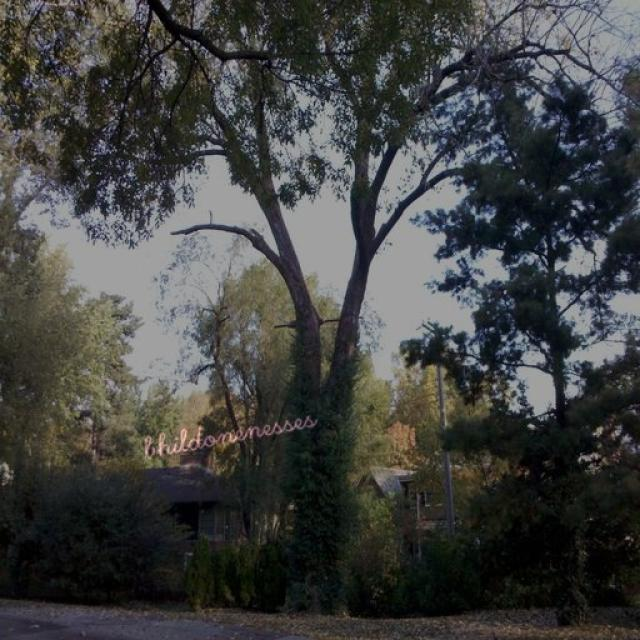watermark: (138, 400, 317, 463)
